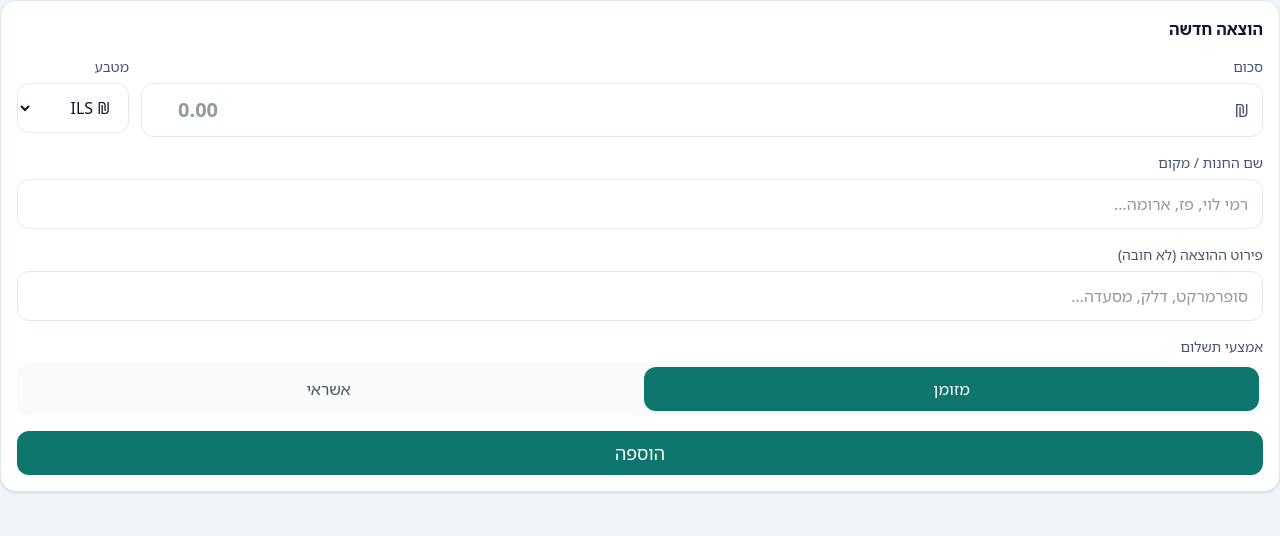
it: ExpenseForm › לא שומר כשהוזן סכום בלבד ללא שם חנות
Type "30" into the field labelled "סכום".
click(702, 110); type("30")  # box [141, 83, 1263, 137]
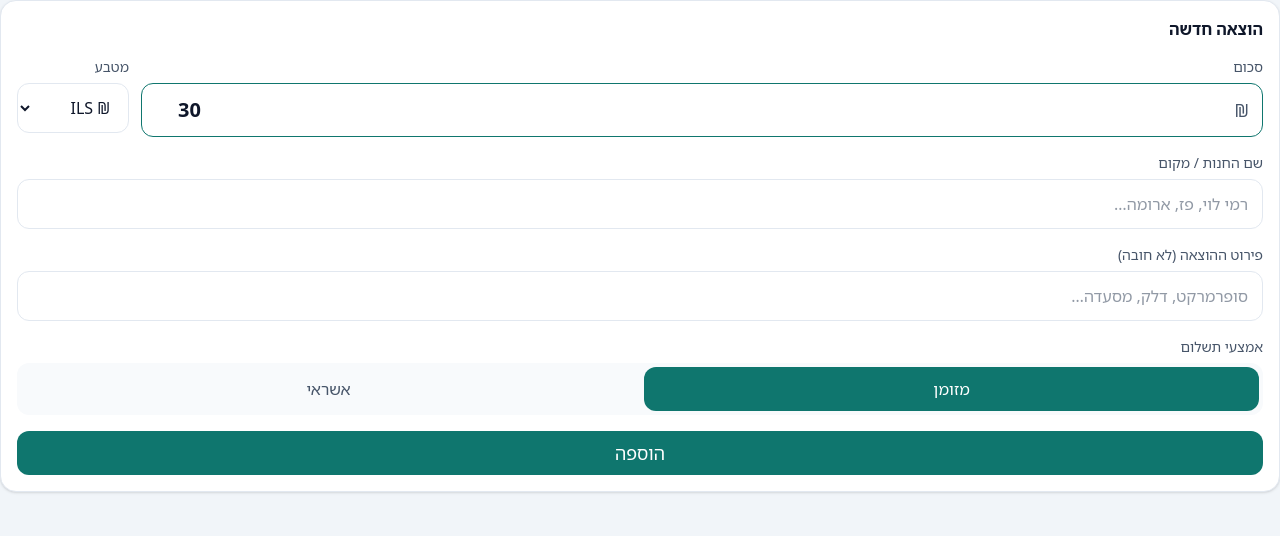
Click the button "הוספה".
click(640, 453)  # box [17, 431, 1263, 475]
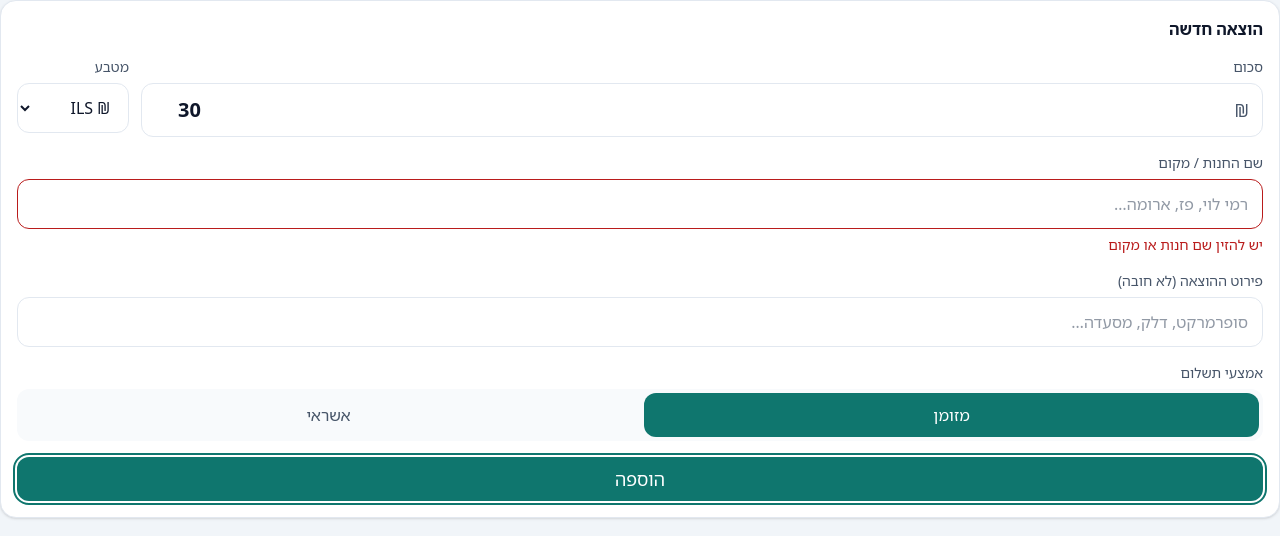
Now the text "יש להזין שם חנות או מקום" is shown, box [1108, 235, 1263, 254]
